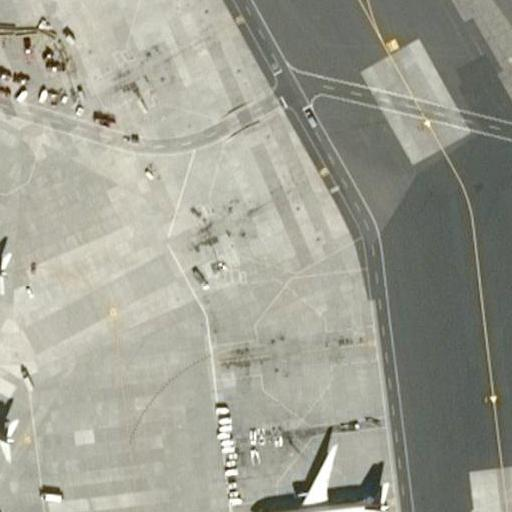Aircraft: (249, 435, 395, 512), (0, 349, 18, 489), (0, 195, 18, 316)
